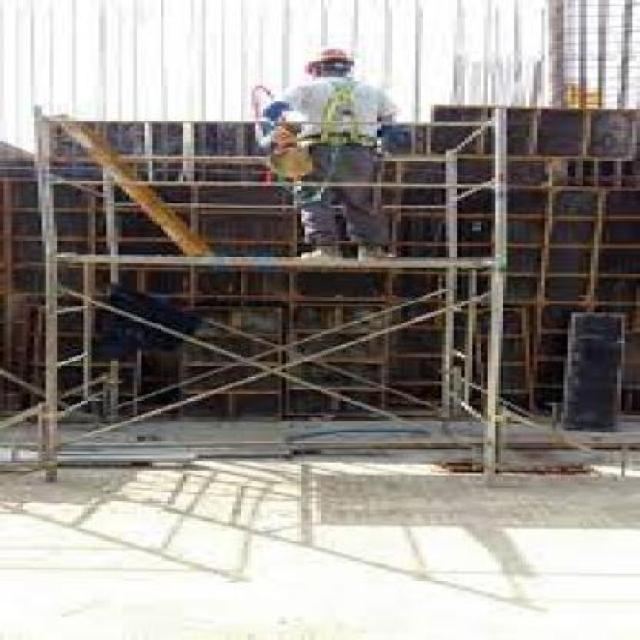Arnes_seguridad: (309, 77, 374, 150)
